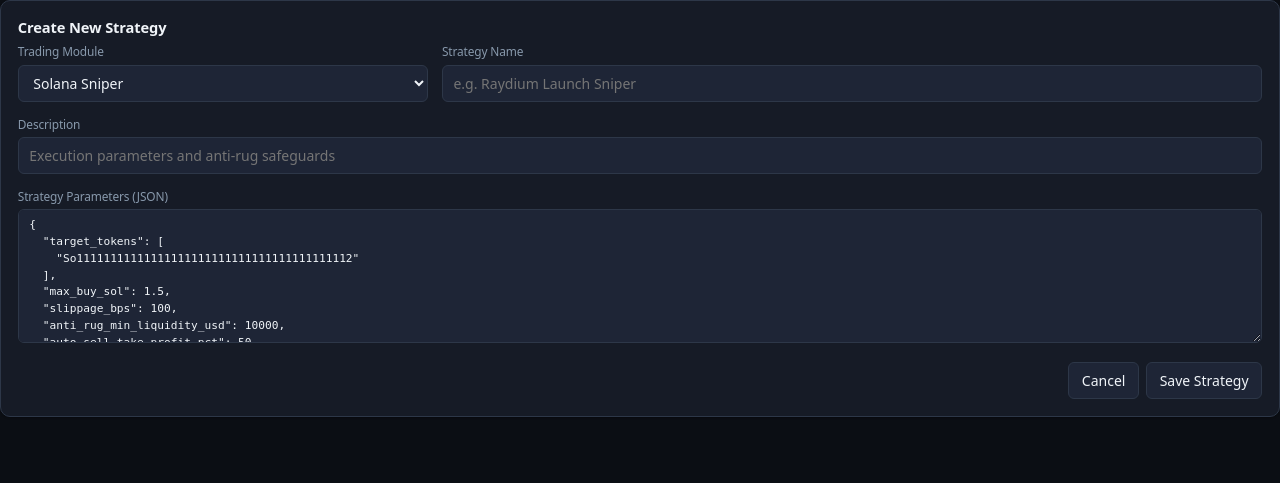
Test: strategy form parameter object validation › rejects valid JSON that is not an object: []
Type "Test strategy" into the field with placeholder "e.g. Raydium Launch Sniper". click: (852, 83)
box: [442,64,1262,102]
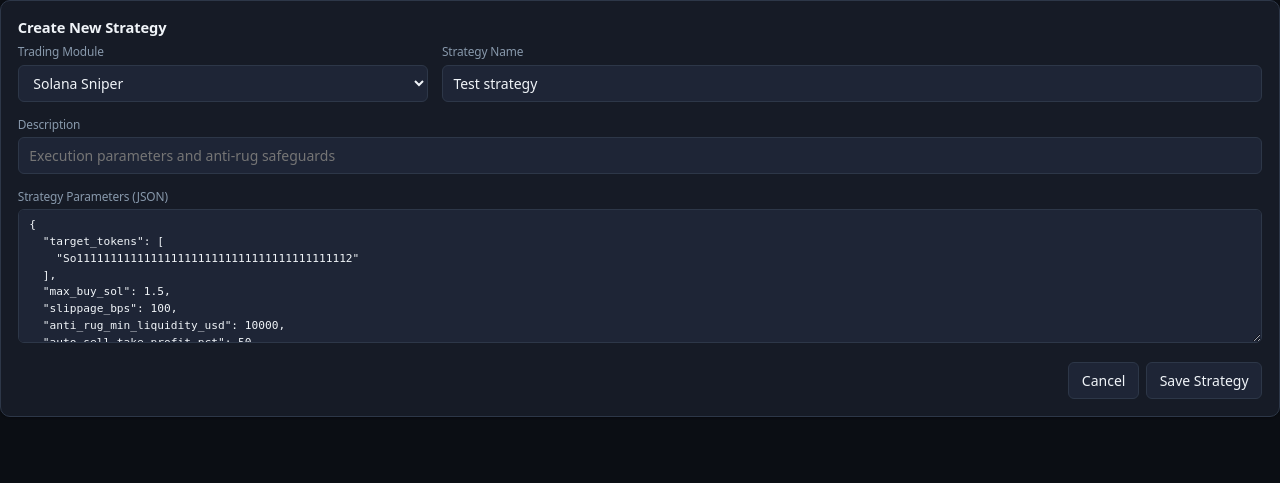
Replace the text in the text box with "[]". click: (640, 276)
box: [18,209,1262,343]
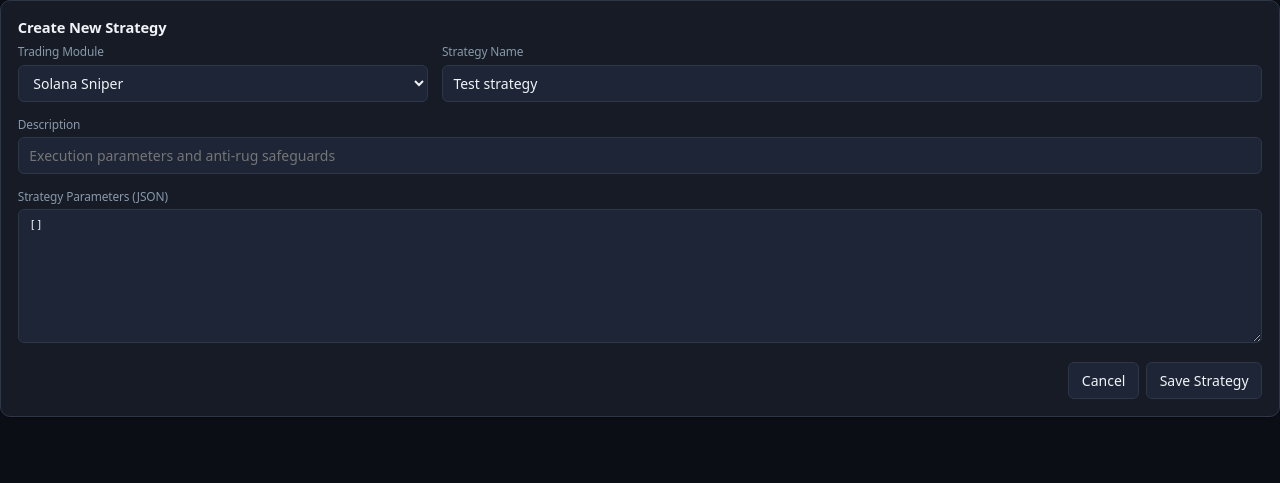
Click the button "Save Strategy". click: (1204, 380)
box: [1146,362,1262,399]
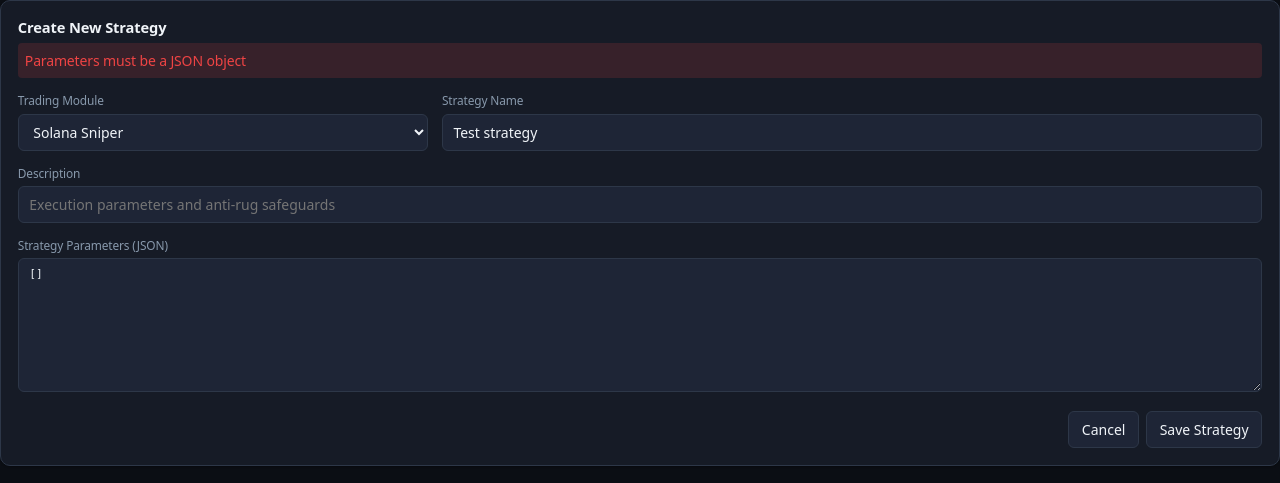
Expected: the text "Parameters must be a JSON object" is shown, [18,43,1262,78]
